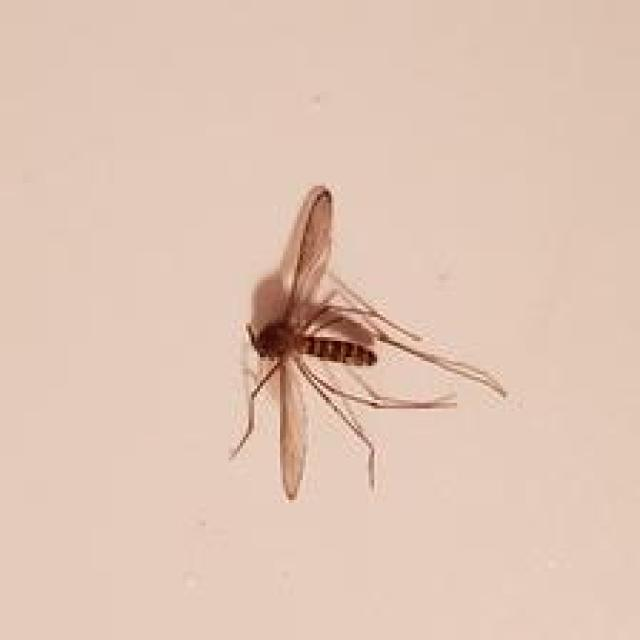Culex: (227, 184, 507, 502)
